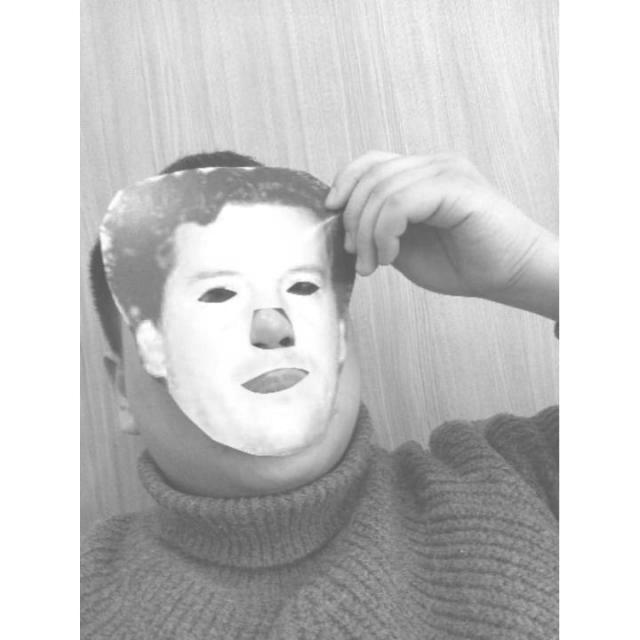fake: (98, 156, 358, 456)
